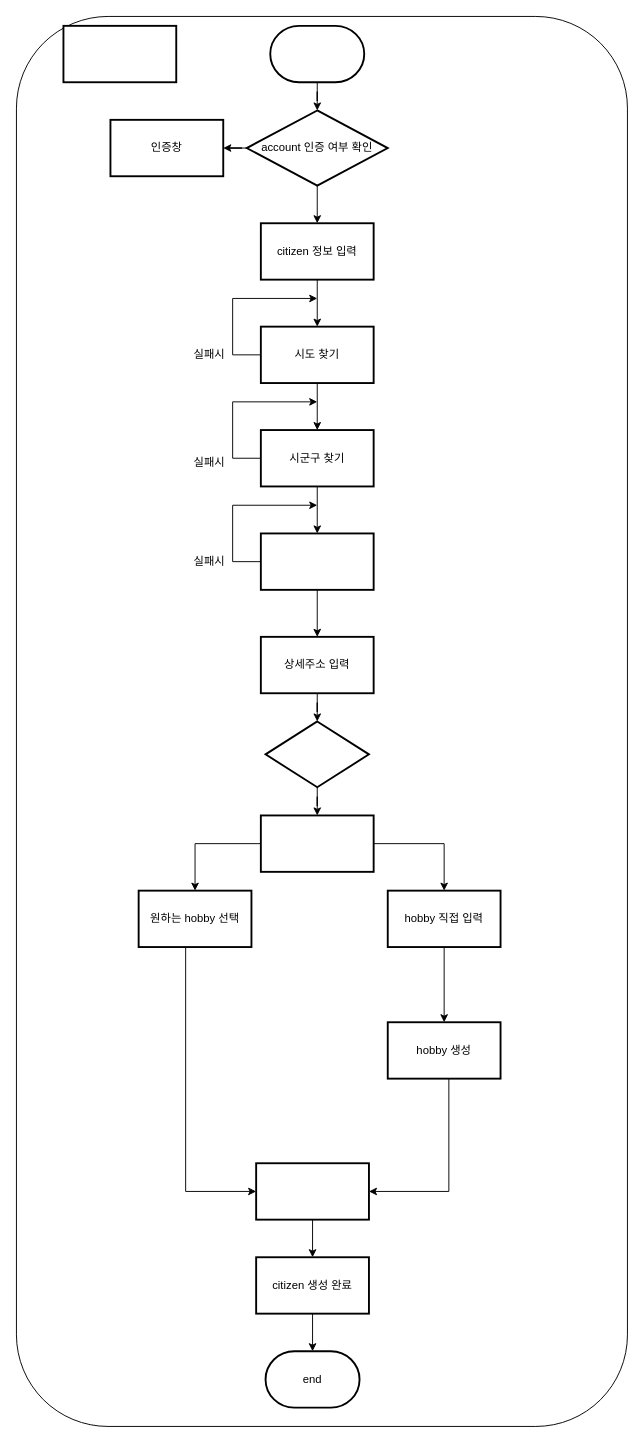
Image size: 644x1443. Some labels were removed from this diagram. Each missing label, with the centre of its shape:
"citizen 생성 세부과정" belongs at (119,53).
"hobby list 출력" belongs at (316,843).
"hobby 등록" belongs at (312,1191).
"start" belongs at (317,53).
"읍면동 찾기" belongs at (316,561).
"지역인증" belongs at (316,754).
